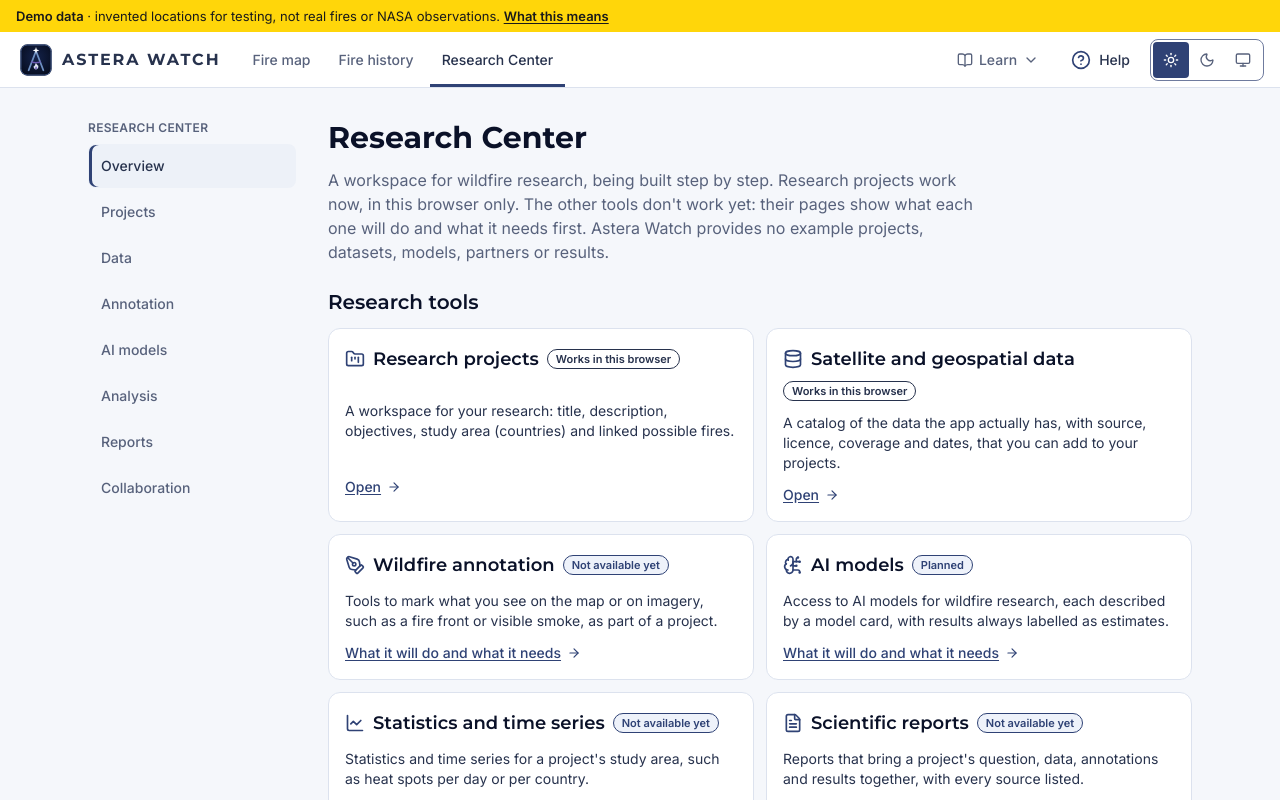
Test: Research Center pages › moving between Research Center pages focuses the new heading
The image size is (1280, 800).
Click the link "Reports" at (127, 442), box [101,433,153,450]
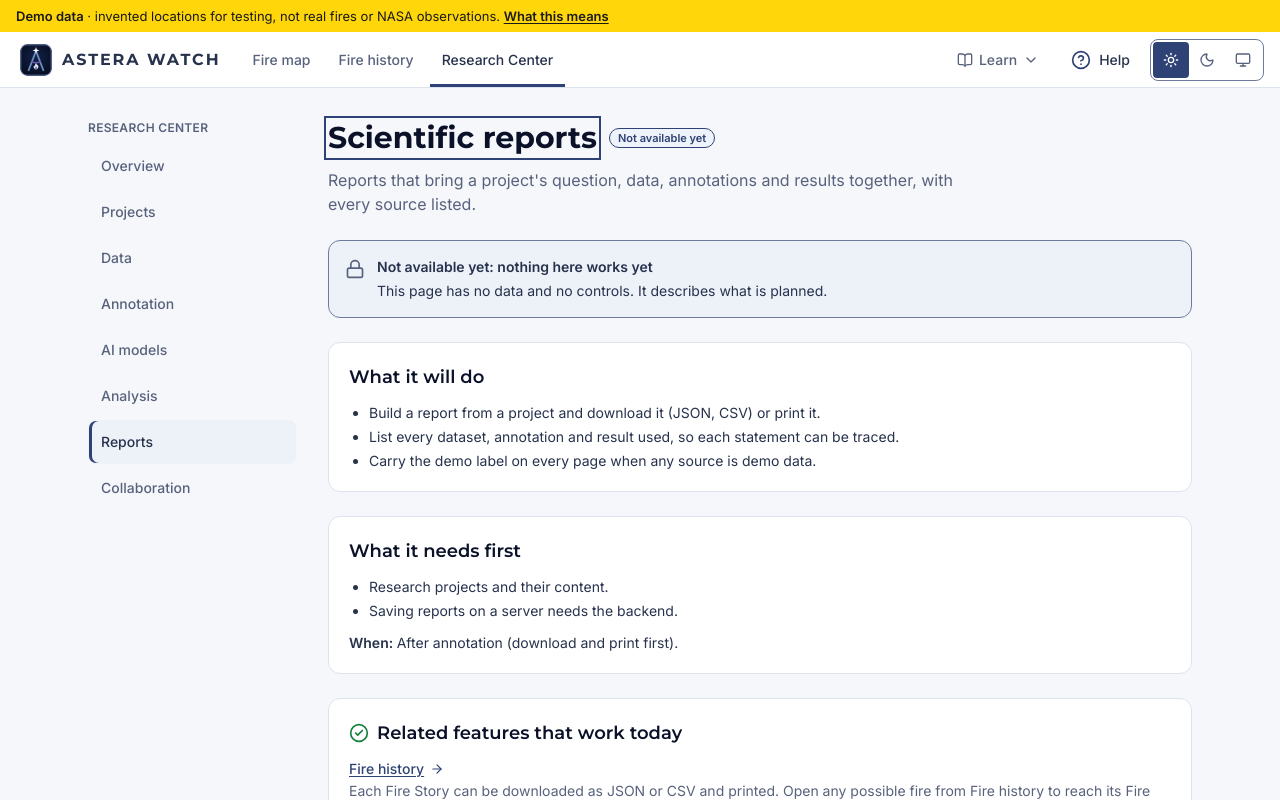
Now the heading "Scientific reports" is shown, box [328,120,597,156]
